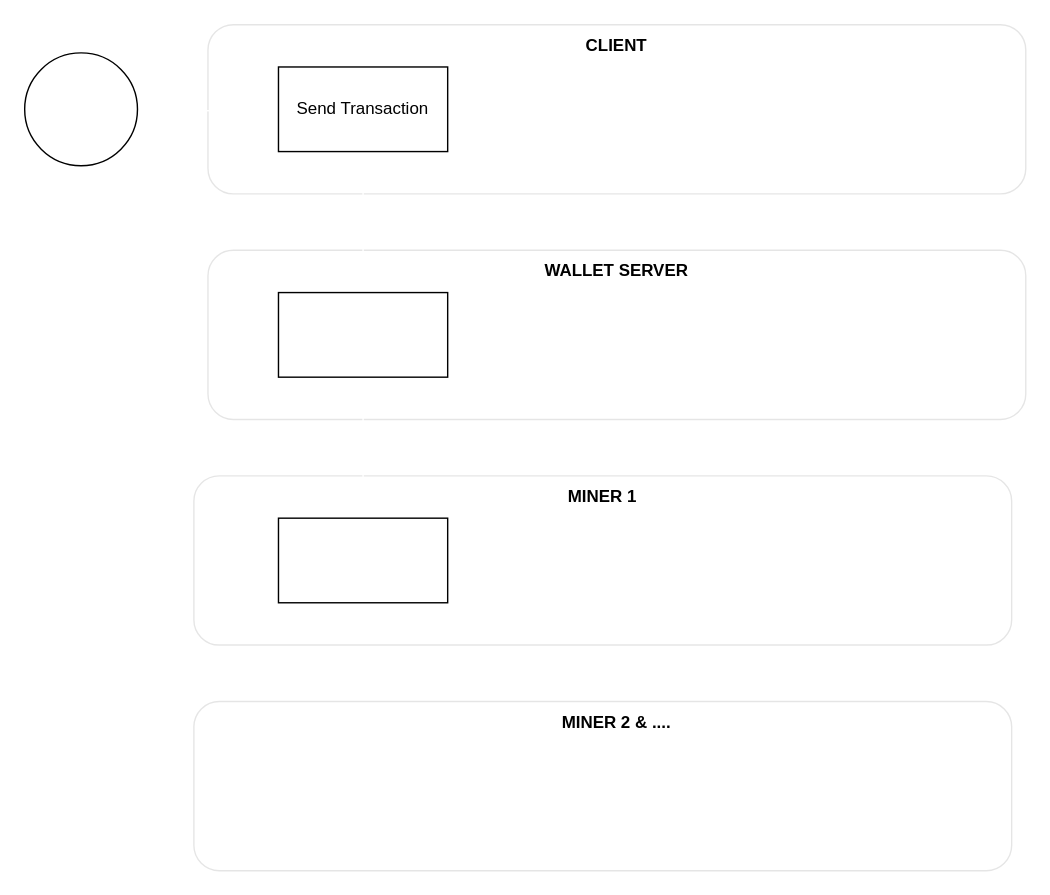
Some shapes in this 1050 by 895 pixel diagram are drawn without their labels. Each missing label, with the box of its shape:
START: (23, 51, 137, 166)
Validate and Sign: (277, 291, 448, 377)
